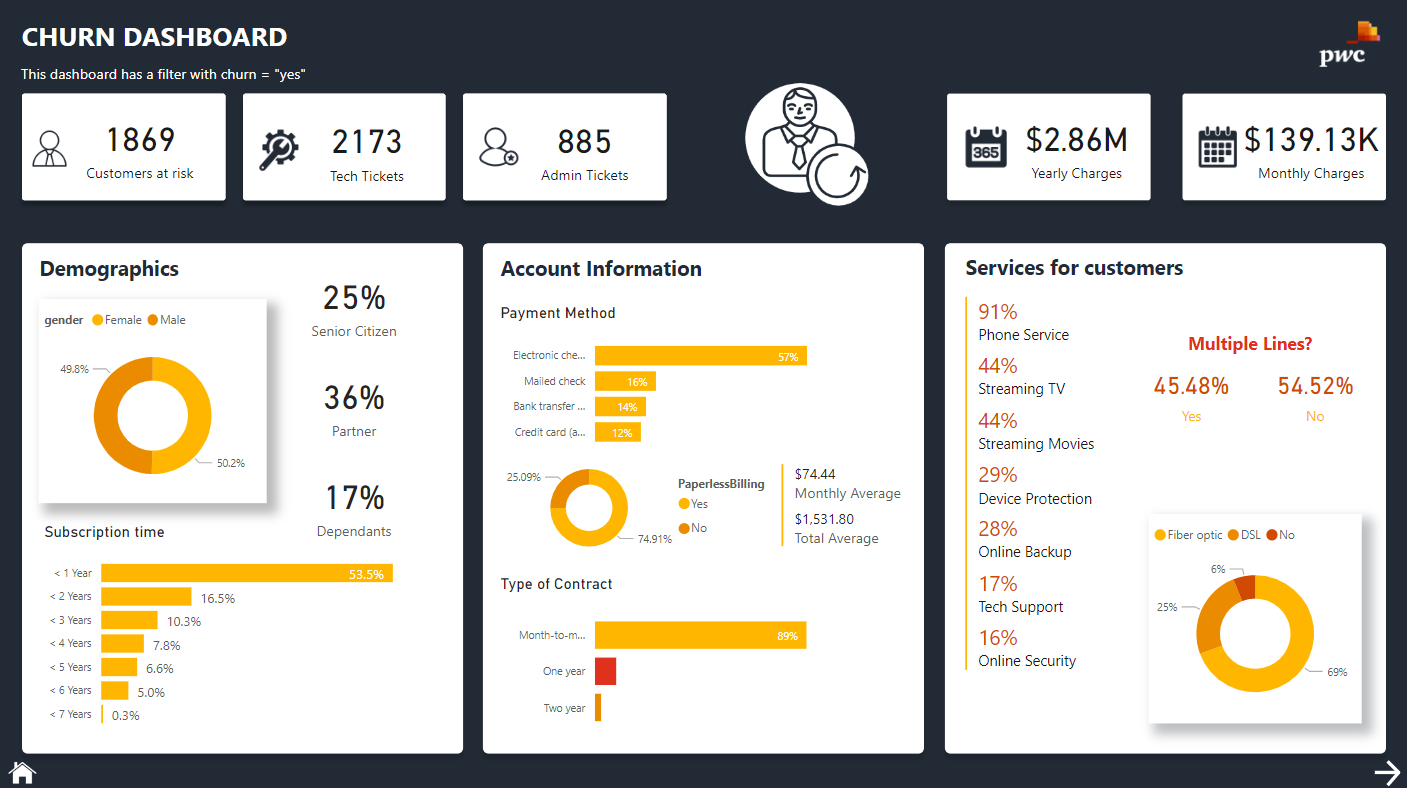

Layout of this report page (visuals, bound fields, positions):
{"tool":"powerbi","page":{"name":"Churn","canvas":[1280,720],"ordinal":1},"visuals":[{"type":"card","fields":{"Values":["_Measures.# Customers"]},"box":[57.9,88,138.7,92.9],"z":0},{"type":"multiRowCard","fields":{"Values":["_Measures.Phone Service %","_Measures.Streaming TV in %","_Measures.Streaming Movies in %","_Measures.Device Protection in %","_Measures.Online Backup in %","_Measures.Tech Support in %","_Measures.Online Security in %"]},"box":[872.7,266.2,192.1,359.5],"z":1000},{"type":"card","fields":{"Values":["_Measures.Multiple Lines Yes in %"]},"box":[1027.8,322.5,112.5,72.7],"z":2000},{"type":"card","fields":{"Values":["_Measures.Tech Tickets"]},"box":[271.4,90.5,124.2,90.5],"z":3000},{"type":"card","fields":{"Values":["_Measures.Admin Tickets"]},"box":[484.8,97.7,92.9,76],"z":4000},{"type":"card","fields":{"Values":["_Measures.Yearly Charges"]},"box":[913.9,87.8,130.4,93.3],"z":5000},{"type":"card","fields":{"Values":["_Measures.Monthly Charges"]},"box":[1122.5,87.8,138.6,93.3],"z":6000},{"type":"card","fields":{"Values":["_Measures.Dependants"]},"box":[260.7,421.3,123.5,75],"z":7000},{"type":"card","fields":{"Values":["_Measures.Senior Citizen"]},"box":[260.7,240.1,123.5,75],"z":8000},{"type":"card","fields":{"Values":["_Measures.Partner"]},"box":[260.7,330.5,123.5,75.5],"z":9000},{"type":"barChart","title":"Subscription time","fields":{"Category":["Customers.loyalty"],"Y":["CountNonNull(Customers.Churn)"]},"box":[35.7,476.2,359.5,196.2],"z":10000},{"type":"donutChart","fields":{"Category":["Customers.gender"],"Y":["CountNonNull(Customers.Churn)"]},"box":[35.7,273.1,207.2,185.2],"z":11000},{"type":"clusteredBarChart","title":"Payment Method","fields":{"Category":["Customers.PaymentMethod"],"Y":["CountNonNull(Customers.Churn)"]},"box":[450.1,277.2,312.9,140],"z":12000},{"type":"donutChart","fields":{"Category":["Customers.PaperlessBilling"],"Y":["CountNonNull(Customers.Churn)"]},"box":[450.1,411.7,255.2,102.9],"z":13000},{"type":"multiRowCard","fields":{"Values":["_Measures.Monthly Average","_Measures.Total Average"]},"box":[705.3,418.5,119.4,98.8],"z":14000},{"type":"barChart","title":"Type of Contract","fields":{"Category":["Customers.Contract"],"Y":["CountNonNull(Customers.Churn)"]},"box":[450.1,524.2,312.9,152.3],"z":15000},{"type":"donutChart","fields":{"Category":["Customers.InternetService"],"Y":["CountNonNull(Customers.Churn)"]},"box":[1044.3,467.9,193.5,190.7],"z":16000},{"type":"textbox","box":[15.1,12.3,289.5,53.5],"z":17000},{"type":"textbox","box":[30.2,227.8,156.4,39.8],"z":18000},{"type":"textbox","box":[450.1,227.8,215.4,35.7],"z":19000},{"type":"textbox","box":[872.7,226.4,245.6,35.7],"z":20000},{"type":"card","fields":{"Values":["_Measures.Multiple Lines No in %"]},"box":[1140.3,322.5,112.5,72.7],"z":21000},{"type":"textbox","box":[1074.4,296.4,131.7,38.4],"z":22000},{"type":"actionButton","box":[1244.6,687.4,33.8,32.6],"z":23000},{"type":"image","box":[0,687.4,41,32.6],"z":24000}]}

Visuals, with their boxes in screenshot pixels (x1, y1, x2, y2), scaled from the page's 1280x720 canvas onto the 1407x788 screenshot:
card - _Measures.# Customers: detection(64, 96, 216, 198)
multiRowCard - _Measures.Phone Service % x _Measures.Streaming TV in %: detection(959, 291, 1170, 685)
card - _Measures.Multiple Lines Yes in %: detection(1130, 353, 1253, 433)
card - _Measures.Tech Tickets: detection(298, 99, 435, 198)
card - _Measures.Admin Tickets: detection(533, 107, 635, 190)
card - _Measures.Yearly Charges: detection(1005, 96, 1148, 198)
card - _Measures.Monthly Charges: detection(1234, 96, 1386, 198)
card - _Measures.Dependants: detection(287, 461, 422, 543)
card - _Measures.Senior Citizen: detection(287, 263, 422, 345)
card - _Measures.Partner: detection(287, 362, 422, 444)
"Subscription time" barChart: detection(39, 521, 434, 736)
donutChart - Customers.gender x CountNonNull(Customers.Churn): detection(39, 299, 267, 502)
"Payment Method" clusteredBarChart: detection(495, 303, 839, 457)
donutChart - Customers.PaperlessBilling x CountNonNull(Customers.Churn): detection(495, 451, 775, 563)
multiRowCard - _Measures.Monthly Average x _Measures.Total Average: detection(775, 458, 907, 566)
"Type of Contract" barChart: detection(495, 574, 839, 740)
donutChart - Customers.InternetService x CountNonNull(Customers.Churn): detection(1148, 512, 1361, 721)
textbox: detection(17, 13, 335, 72)
textbox: detection(33, 249, 205, 293)
textbox: detection(495, 249, 732, 288)
textbox: detection(959, 248, 1229, 287)
card - _Measures.Multiple Lines No in %: detection(1253, 353, 1377, 433)
textbox: detection(1181, 324, 1326, 366)
actionButton: detection(1368, 752, 1405, 787)
image: detection(0, 752, 45, 787)
